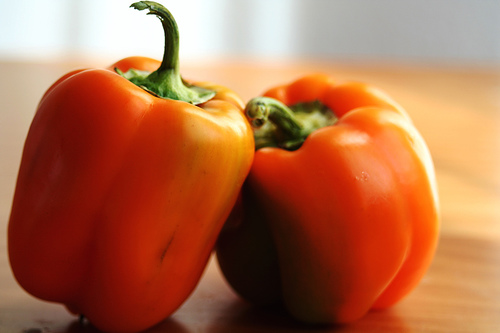capsicum: (5, 0, 256, 332), (217, 52, 439, 321)
